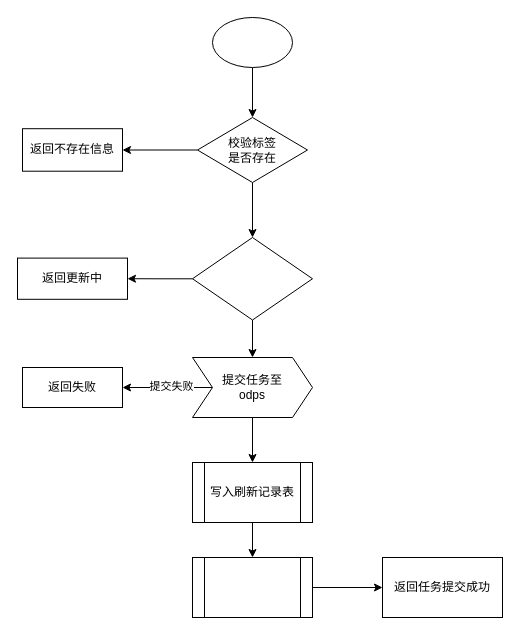
This 520x635 diagram has some shape labels left out. The centre of each missing label's shape, as x and y in pixels:
"修改基础信息表更新状态" belongs at [252,587].
"标签刷新" belongs at [252,42].
"校验标签是否 处于更新中" belongs at [252,278].
